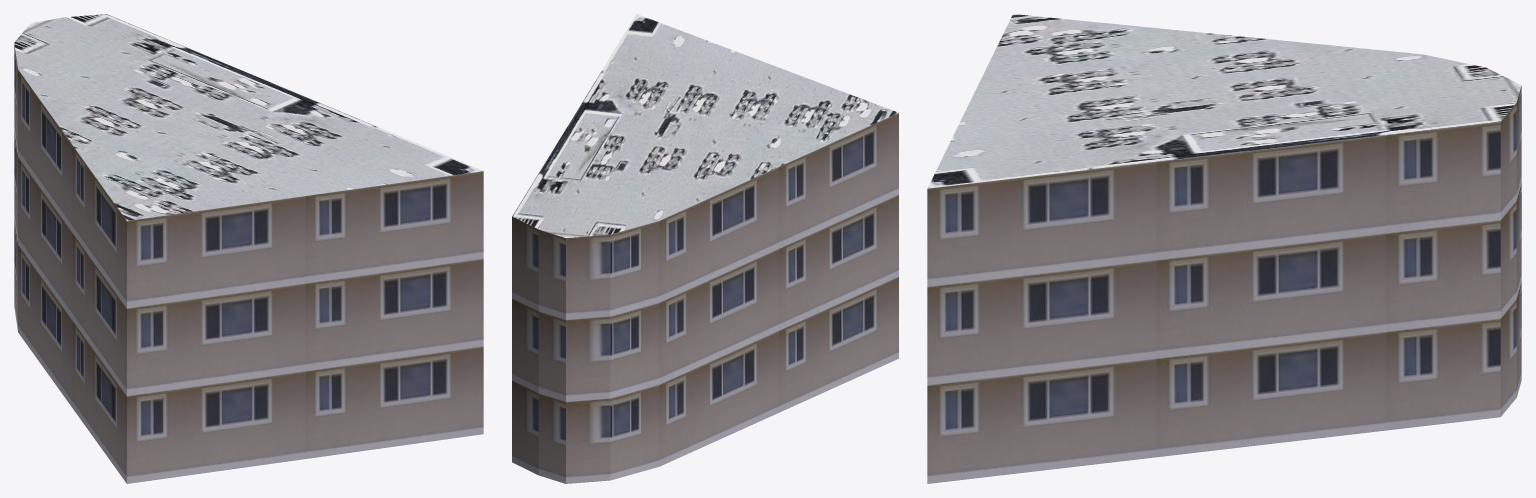
The model's file is ResTex__626.fbx.
3 renders of one model, left to right at view 1: azimuth 30°, elevation 25°; view 2: azimuth 150°, elevation 25°; view 3: azimuth 270°, elevation 25°, orthographic. The views are drawn at different scales.
Visible parts, largest first — view 1: CityEngineMaterial_21_m, CityEngineMaterial_8_m; view 2: CityEngineMaterial_21_m, CityEngineMaterial_8_m; view 3: CityEngineMaterial_21_m, CityEngineMaterial_8_m.
Boxes of the visible parts, left/top/right/bottom form: CityEngineMaterial_21_m: left=14, top=45, right=483, bottom=483; CityEngineMaterial_8_m: left=14, top=14, right=482, bottom=220; CityEngineMaterial_21_m: left=512, top=113, right=898, bottom=483; CityEngineMaterial_8_m: left=512, top=14, right=898, bottom=237; CityEngineMaterial_21_m: left=927, top=85, right=1521, bottom=483; CityEngineMaterial_8_m: left=927, top=14, right=1521, bottom=188.
Bounding box in the file's own units: 11.41 × 9 × 16.41.
Materials: 2 (2 with a texture image).
